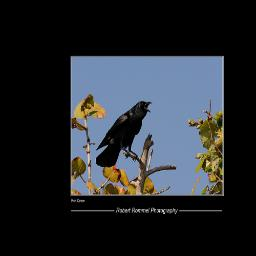Crow: (96, 100, 152, 167)
